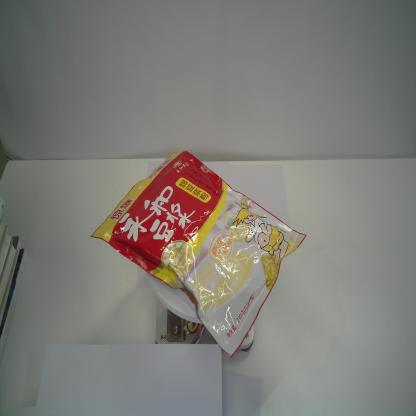Instant Drink: (89, 148, 308, 360)
